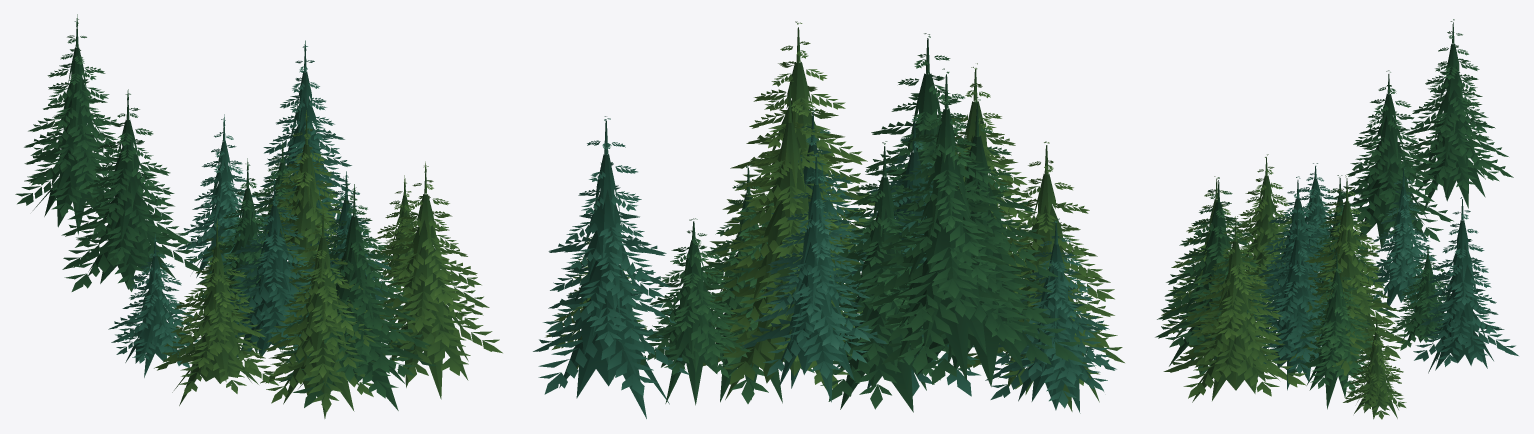
3 views of the same model, side by side, from view 1: azimuth 30°, elevation 25°; view 2: azimuth 150°, elevation 25°; view 3: azimuth 270°, elevation 25° (orthographic). The views are drawn at different scales.
Visible parts, largest first — view 1: pn_30; view 2: pn_30; view 3: pn_30.
Boxes of the visible parts, x1,y1,x2,y2 form: pn_30: (15,14,502,418); pn_30: (533,21,1124,418); pn_30: (1155,19,1518,419).
Size of the model in its own units: 28.79 by 23.97 by 27.14.
Materials: 1 (1 with a texture image).
